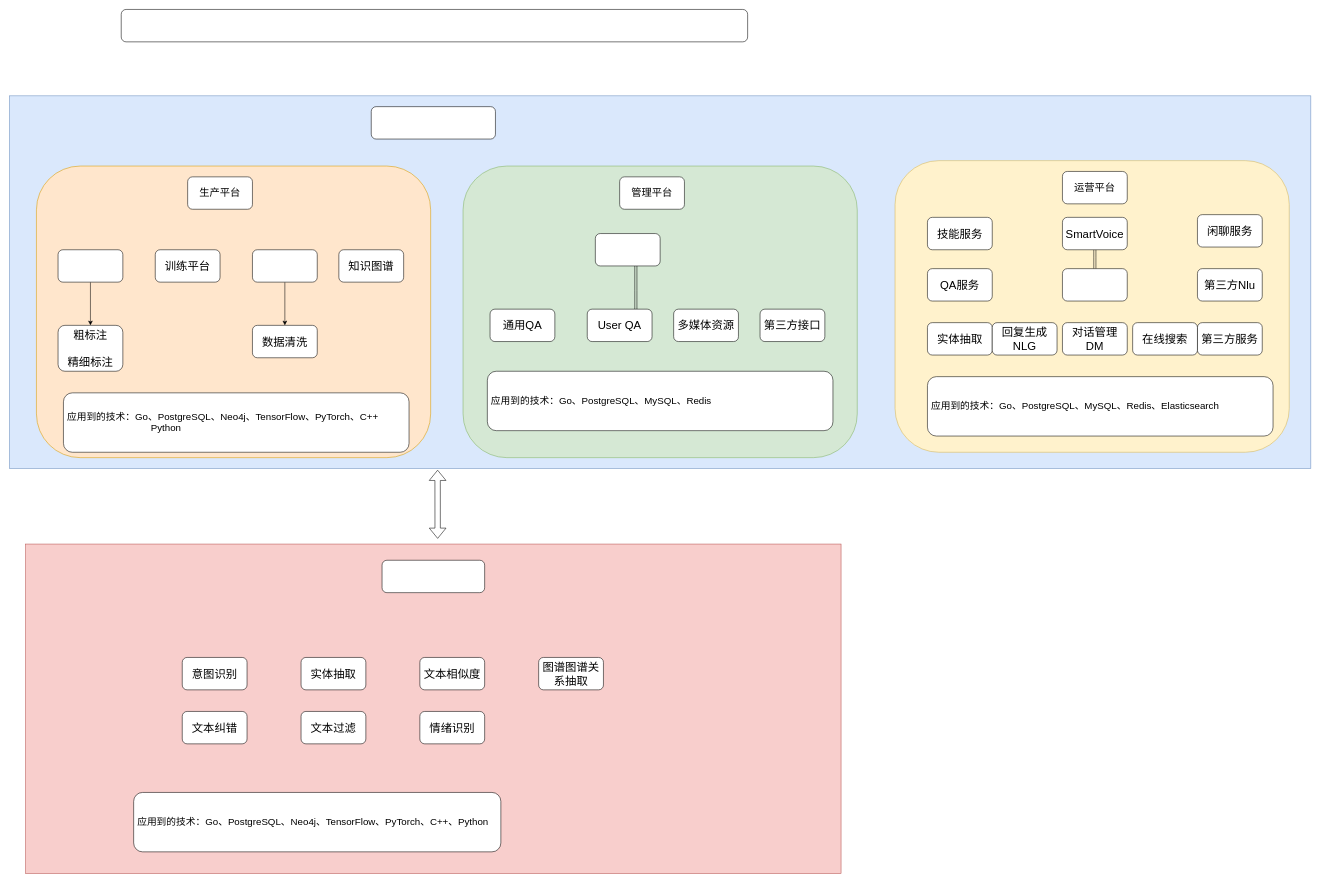
Image size: 1320x883. Some labels were removed from this diagram. The shapes that lost their labels are listed below. From the top down, each one's box as (x1, y1, x2, y2) in pixels, then its label:
(121, 9, 748, 42): SV整体技术框架图
(371, 106, 495, 139): 工程层
(58, 249, 123, 282): 标注平台
(252, 249, 317, 282): 爬虫工具
(595, 233, 660, 266): CMS
(1062, 268, 1127, 301): 对话状态跟踪 DST
(382, 560, 485, 593): 算法层
